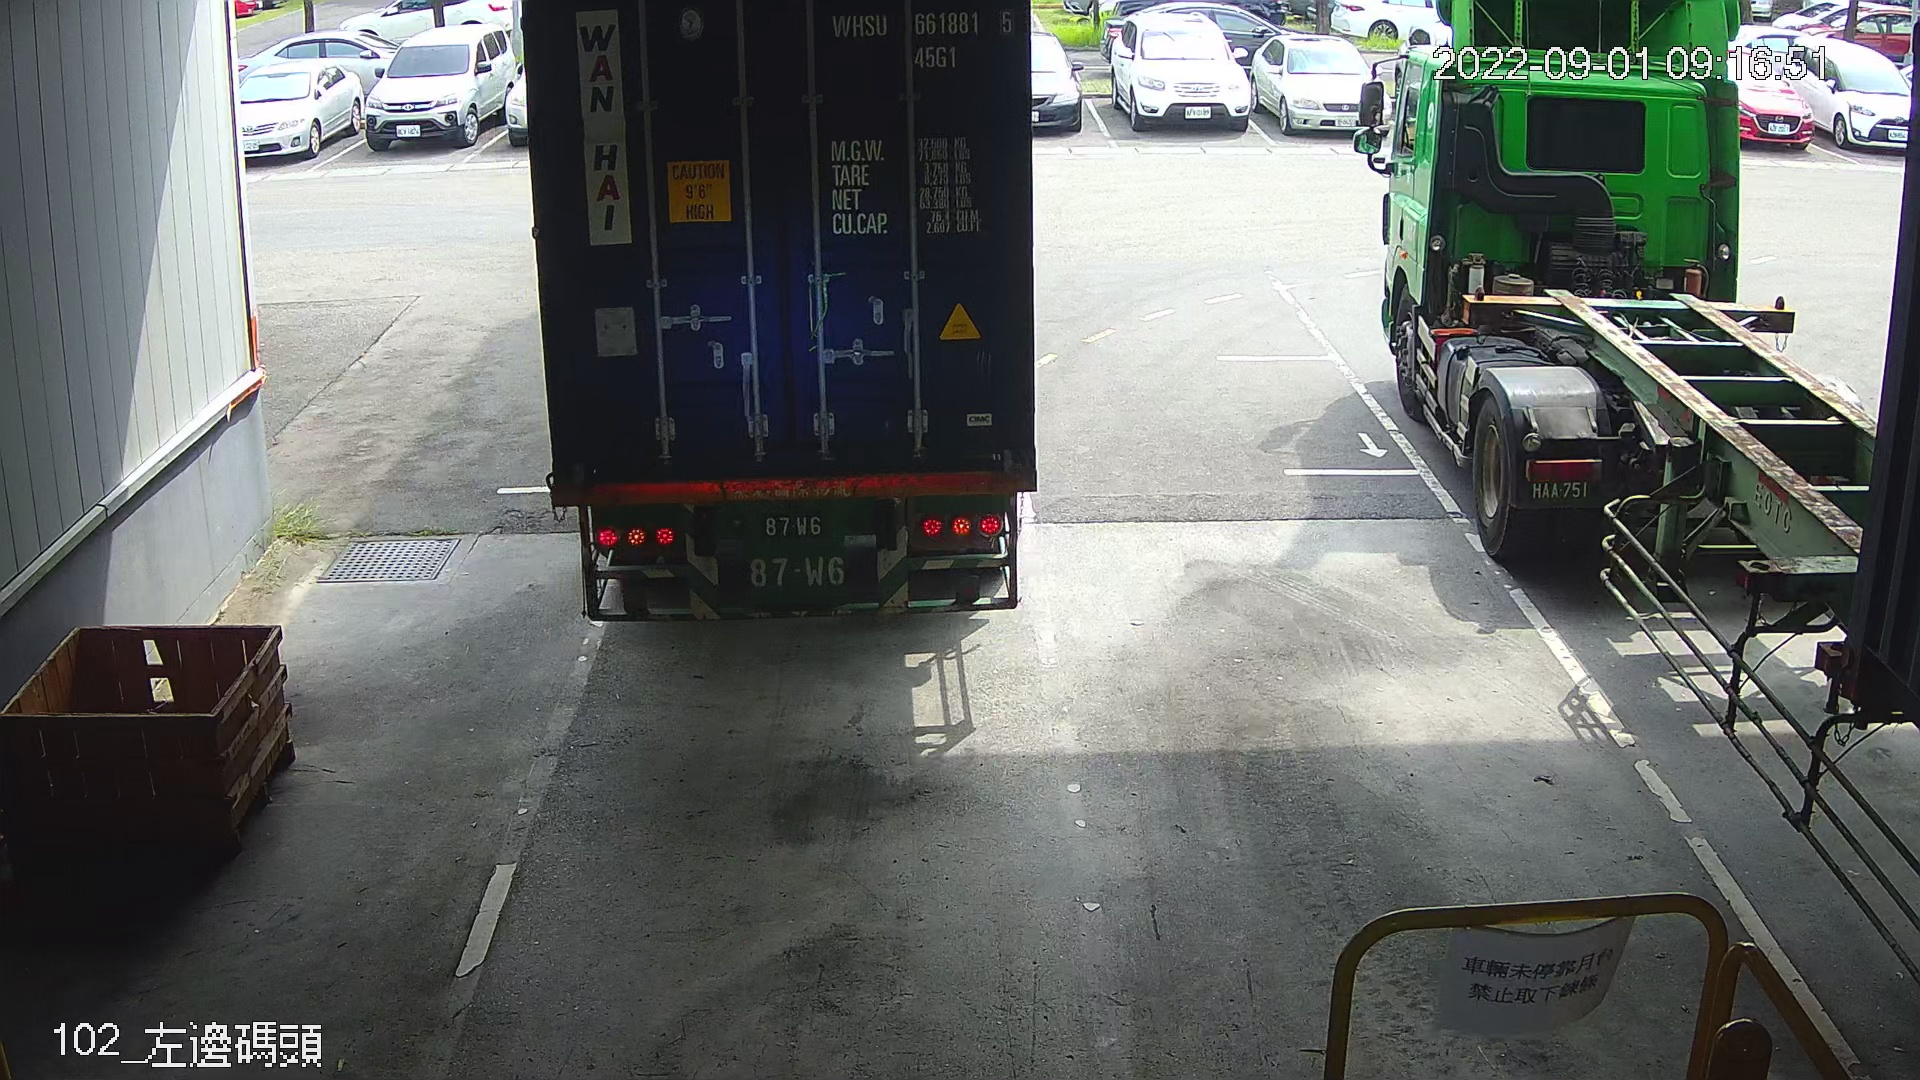container: (828, 5, 1019, 79)
